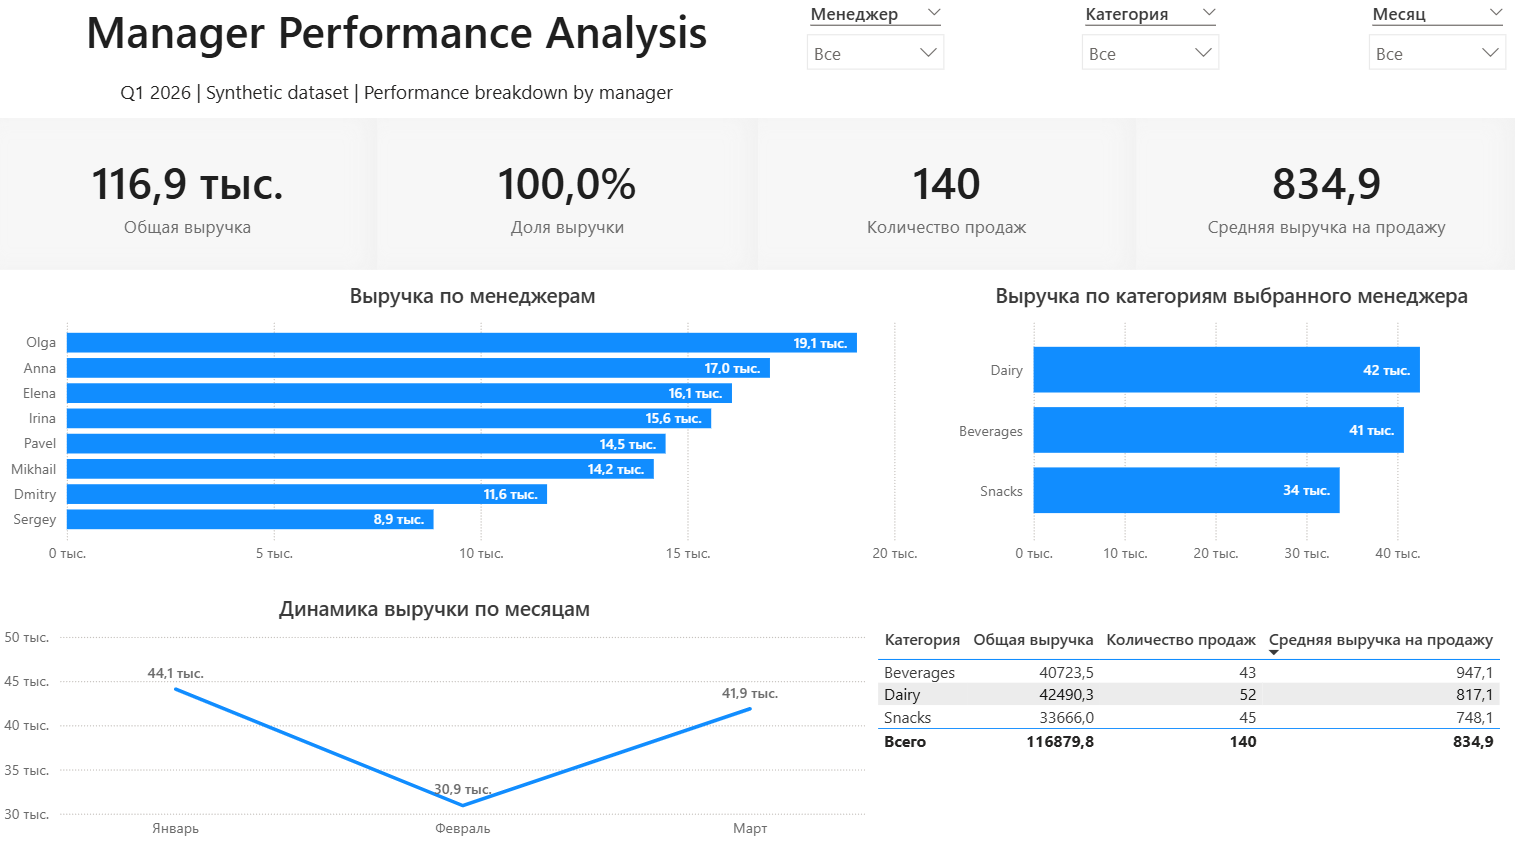

This screenshot's page, from the dashboard's own definition file:
{"tool":"powerbi","page":{"name":"Manager Analysis","canvas":[1280,720],"ordinal":1},"visuals":[{"type":"clusteredBarChart","title":"Выручка по категориям выбранного менеджера","fields":{"Category":["dim_product.category"],"Y":["Sum(fact_sales.revenue)"]},"box":[800,240,480,248],"z":0},{"type":"slicer","fields":{"Values":["dim_manager.manager"]},"box":[672,0,136,104],"z":1000,"group":"g1"},{"type":"clusteredBarChart","title":"Выручка по менеджерам","fields":{"Category":["dim_manager.manager"],"Y":["Sum(fact_sales.revenue)"]},"box":[0,240,800,248],"z":1000},{"type":"slicer","fields":{"Values":["dim_product.category"]},"box":[904,0,136,104],"z":2000,"group":"g1"},{"type":"slicer","fields":{"Values":["dim_date.order_date.Изменение.Иерархия дат.Месяц"]},"box":[1145.4,0,136,104],"z":3000,"group":"g1"},{"type":"tableEx","fields":{"Values":["dim_product.category","Sum(fact_sales.revenue)","fact_sales.Количество строк продаж","fact_sales.Средняя выручка на строку продажи"]},"box":[736,528,544,128],"z":3000},{"type":"textbox","box":[0,0,672,104],"z":4000},{"type":"group","id":"g1","title":"Группа 1","box":[672,0,608,104],"z":5000},{"type":"group","id":"g2","title":"Группа 2","box":[0,104,1280,128],"z":6000},{"type":"card","fields":{"Values":["fact_sales.Количество строк продаж"]},"box":[640,104,320,128],"z":7000,"group":"g2"},{"type":"lineChart","title":"Динамика выручки по месяцам","fields":{"Y":["Sum(fact_sales.revenue)"],"Category":["dim_date.order_date.Изменение.Иерархия дат.Месяц"]},"box":[0,504,736,216],"z":7000},{"type":"card","fields":{"Values":["fact_sales.Средняя выручка на строку продажи"]},"box":[960,104,320,128],"z":8000,"group":"g2"},{"type":"card","fields":{"Values":["fact_sales.Общая выручка"]},"box":[0,104,320,128],"z":11000,"group":"g2"},{"type":"card","fields":{"Values":["fact_sales.Доля выручки менеджера (VAR)"]},"box":[320,104,320,128],"z":12000,"group":"g2"}]}

Visuals, with their boxes in screenshot pixels (x1, y1, x2, y2), scaled from the page's 1280x720 canvas onto the 1515x846 screenshot:
"Выручка по категориям выбранного менеджера" clusteredBarChart: box(947, 282, 1514, 573)
slicer - dim_manager.manager: box(795, 0, 956, 122)
"Выручка по менеджерам" clusteredBarChart: box(0, 282, 947, 573)
slicer - dim_product.category: box(1070, 0, 1231, 122)
slicer - dim_date.order_date.Изменение.Иерархия дат.Месяц: box(1356, 0, 1514, 122)
tableEx - dim_product.category x Sum(fact_sales.revenue): box(871, 620, 1514, 771)
textbox: box(0, 0, 795, 122)
"Группа 1" group: box(795, 0, 1514, 122)
"Группа 2" group: box(0, 122, 1514, 273)
card - fact_sales.Количество строк продаж: box(758, 122, 1136, 273)
"Динамика выручки по месяцам" lineChart: box(0, 592, 871, 845)
card - fact_sales.Средняя выручка на строку продажи: box(1136, 122, 1514, 273)
card - fact_sales.Общая выручка: box(0, 122, 379, 273)
card - fact_sales.Доля выручки менеджера (VAR): box(379, 122, 758, 273)
